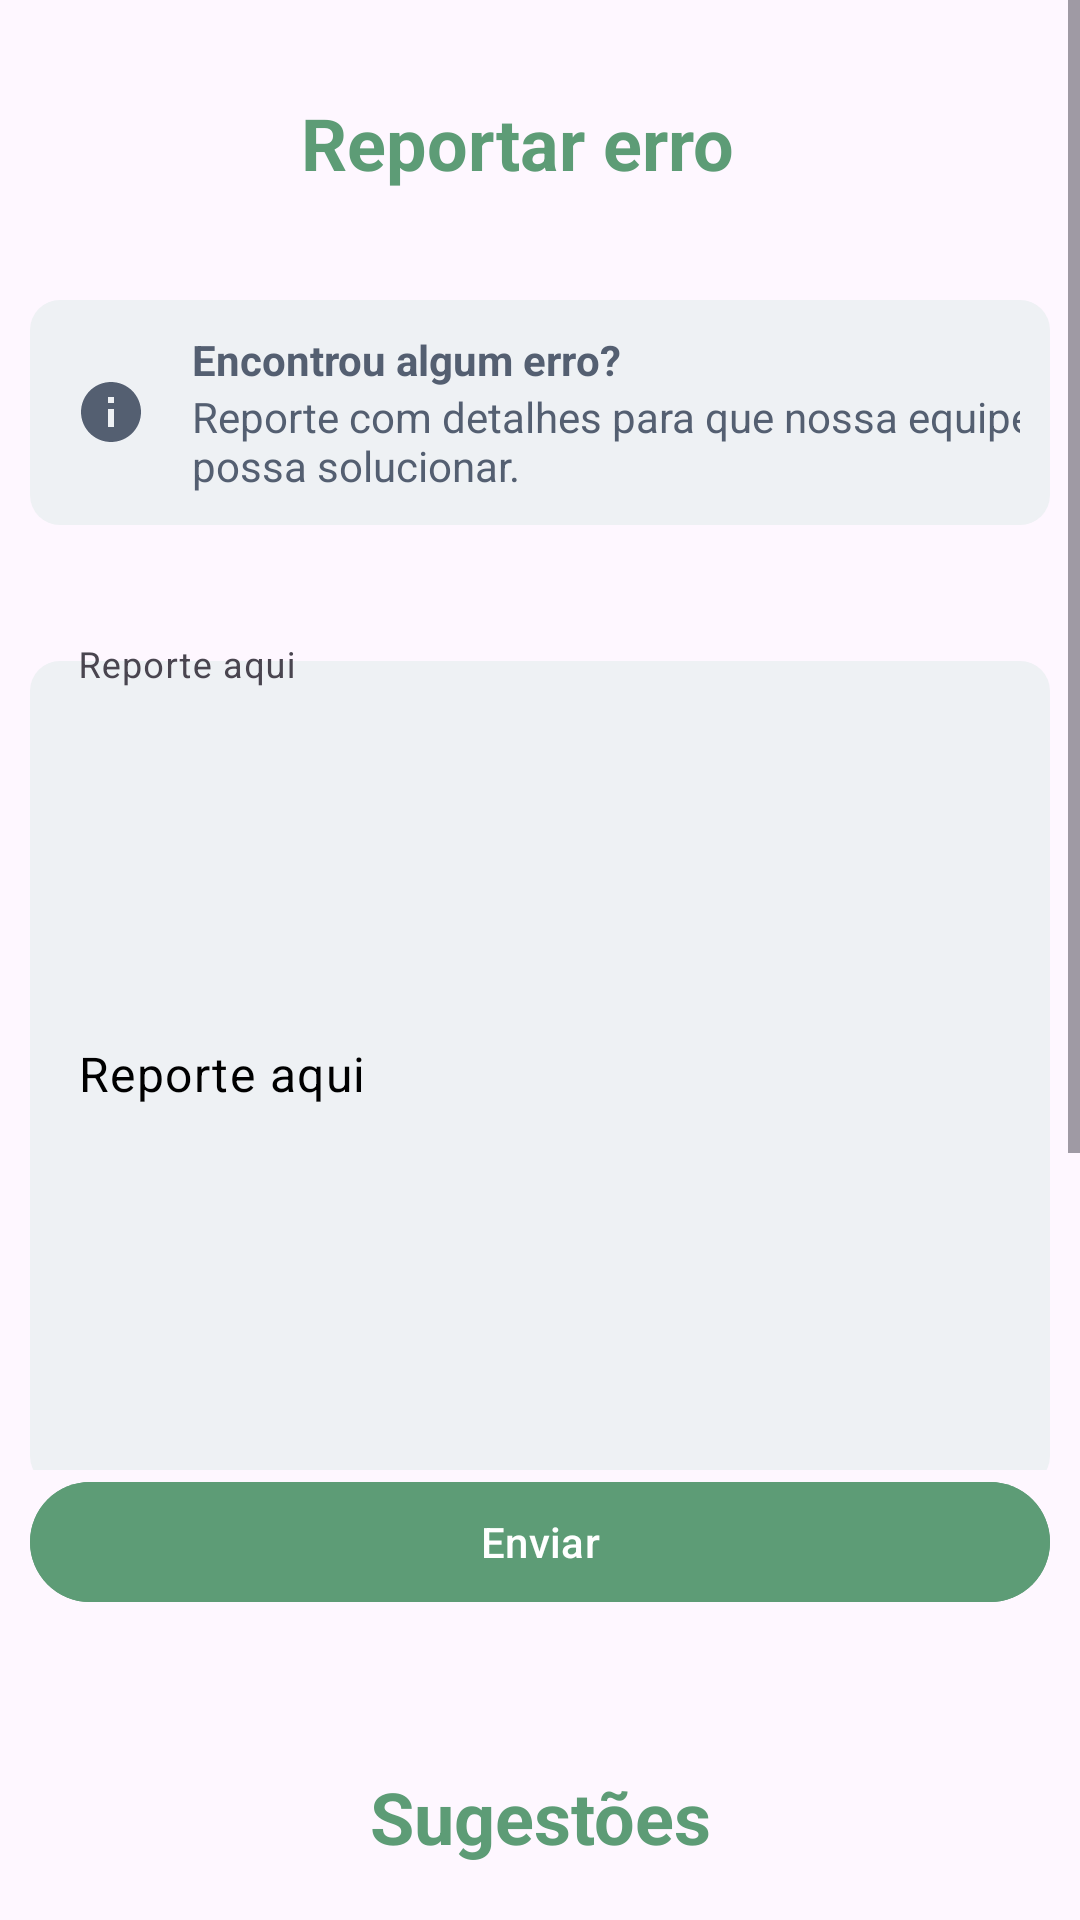

Icons on this 1080px x 1920px Android screen, each with its box as (x1, y1, x2, y2):
info: (81, 382, 141, 442)
